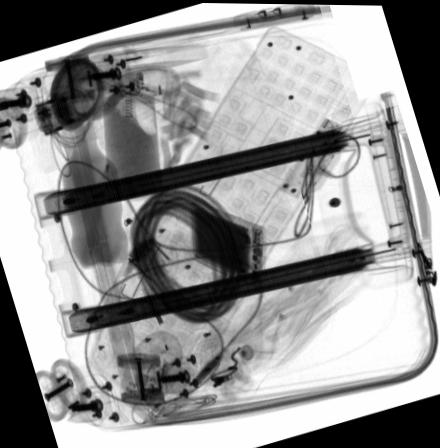Powerbank: (190, 201, 265, 285)
